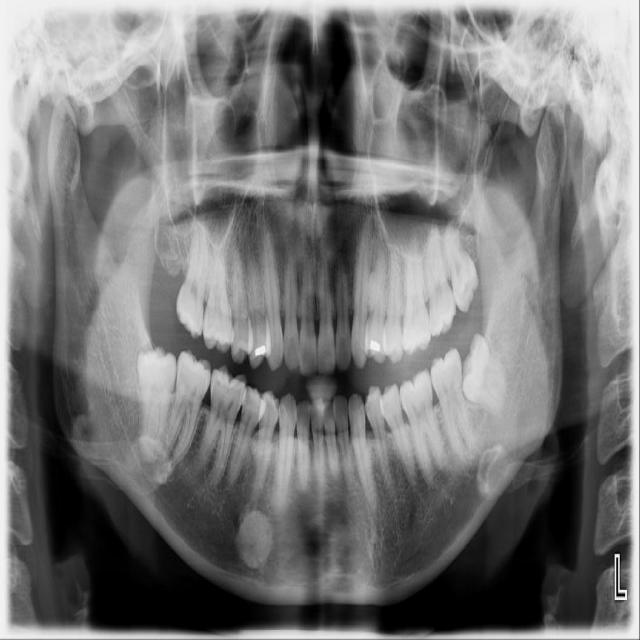Filling: (363, 340, 383, 355), (254, 344, 266, 356)
impacted tooth: (135, 350, 176, 462), (461, 332, 513, 412)
